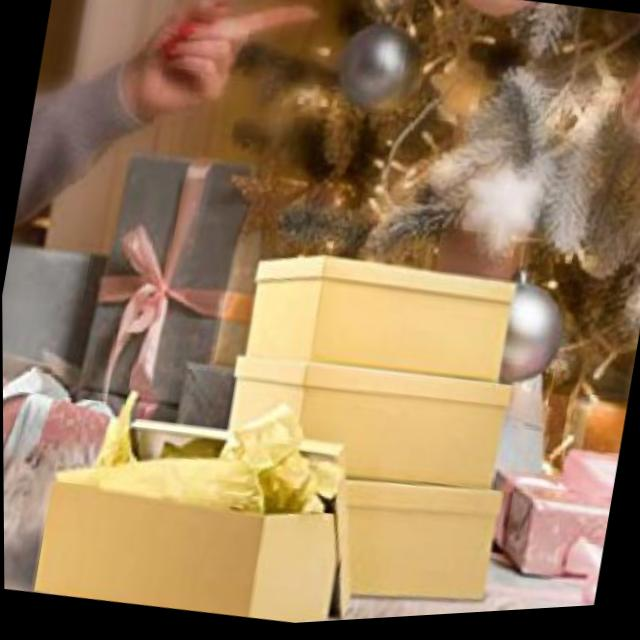box: (25, 424, 354, 639), (230, 227, 543, 410), (213, 334, 515, 502), (304, 461, 522, 626)
